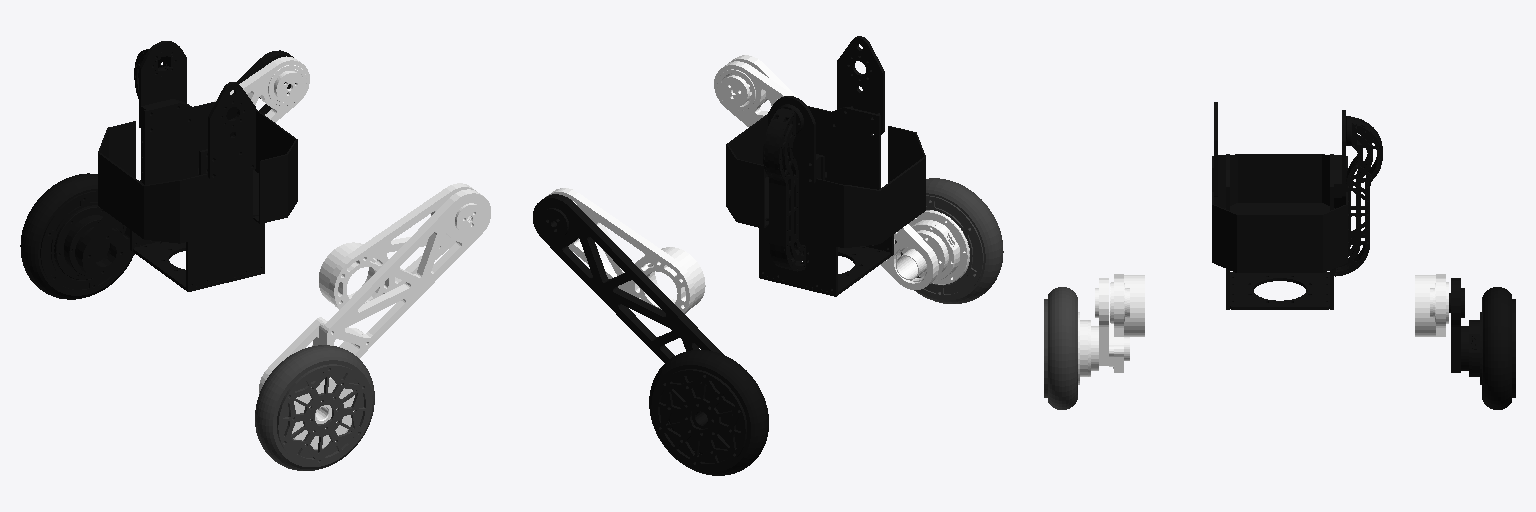
URDF robot description (Wheelleg_Robot):
<?xml version="1.0" encoding="utf-8"?>
<!-- This URDF was automatically created by SolidWorks to URDF Exporter! Originally created by [author] ([email redacted]) 
     Commit Version: 1.6.0-4-g7f85cfe  Build Version: 1.6.7995.38578
     For more information, please see http://wiki.ros.org/sw_urdf_exporter -->
<robot
  name="Wheelleg_Robot">
  <link
    name="base_link">
    <inertial>
      <origin
        xyz="-0.0393119892499659 0.000727219650863031 0.124790988924537"
        rpy="0 0 0" />
      <mass
        value="9.66650123485261" />
      <inertia
        ixx="0.021667255610811"
        ixy="-6.84802514806425E-06"
        ixz="-6.94682533420436E-05"
        iyy="0.0267198794185766"
        iyz="0.000293520093894272"
        izz="0.0278354606058483" />
    </inertial>
    <visual>
      <origin
        xyz="0 0 0"
        rpy="0 0 0" />
      <geometry>
        <mesh
          filename="package://Wheelleg_Robot/meshes/base_link.STL" />
      </geometry>
      <material
        name="">
        <color
          rgba="0.101960784313725 0.101960784313725 0.101960784313725 1" />
      </material>
    </visual>
    <collision>
      <origin
        xyz="0 0 0"
        rpy="0 0 0" />
      <geometry>
        <mesh
          filename="package://Wheelleg_Robot/meshes/base_link.STL" />
      </geometry>
    </collision>
  </link>
  <link
    name="R_LEG_link">
    <inertial>
      <origin
        xyz="0.0593195704988335 -0.00395996631715179 0.00337278963733142"
        rpy="0 0 0" />
      <mass
        value="0.187320941711117" />
      <inertia
        ixx="9.82888166929598E-05"
        ixy="-5.57235263548808E-19"
        ixz="-2.55423110367473E-05"
        iyy="0.000530493427214956"
        iyz="-1.27691905385213E-19"
        izz="0.000439056171779246" />
    </inertial>
    <visual>
      <origin
        xyz="0 0 0"
        rpy="0 0 0" />
      <geometry>
        <mesh
          filename="package://Wheelleg_Robot/meshes/R_LEG_link.STL" />
      </geometry>
      <material
        name="">
        <color
          rgba="1 1 1 1" />
      </material>
    </visual>
    <collision>
      <origin
        xyz="0 0 0"
        rpy="0 0 0" />
      <geometry>
        <mesh
          filename="package://Wheelleg_Robot/meshes/R_LEG_link.STL" />
      </geometry>
    </collision>
  </link>
  <joint
    name="R_LEG_joint"
    type="continuous">
    <origin
      xyz="0.0999999999999987 0.194999999999033 0.136"
      rpy="0 -0.399732455556951 0" />
    <parent
      link="base_link" />
    <child
      link="R_LEG_link" />
    <axis
      xyz="0 1 0" />
  </joint>
  <link
    name="R_leg_link2">
    <inertial>
      <origin
        xyz="-0.204331841708071 0.0143511599865713 6.42877477982119E-06"
        rpy="0 0 0" />
      <mass
        value="0.504177213691205" />
      <inertia
        ixx="0.000240640987451385"
        ixy="-2.80146963419998E-08"
        ixz="8.27816297118785E-07"
        iyy="0.0026476360704367"
        iyz="-1.73890969867268E-08"
        izz="0.00246221574199807" />
    </inertial>
    <visual>
      <origin
        xyz="0 0 0"
        rpy="0 0 0" />
      <geometry>
        <mesh
          filename="package://Wheelleg_Robot/meshes/R_leg_link2.STL" />
      </geometry>
      <material
        name="">
        <color
          rgba="0.101960784313725 0.101960784313725 0.101960784313725 1" />
      </material>
    </visual>
    <collision>
      <origin
        xyz="0 0 0"
        rpy="0 0 0" />
      <geometry>
        <mesh
          filename="package://Wheelleg_Robot/meshes/R_leg_link2.STL" />
      </geometry>
    </collision>
  </link>
  <joint
    name="R_leg_joint2"
    type="continuous">
    <origin
      xyz="0.139741726052029 0.0270000000000006 0.00849999999999393"
      rpy="0 -0.235284574006044 0" />
    <parent
      link="R_LEG_link" />
    <child
      link="R_leg_link2" />
    <axis
      xyz="0 -1 0" />
  </joint>
  <link
    name="R_wheel_link">
    <inertial>
      <origin
        xyz="6.10622663543836E-16 0.0438243848963922 -1.66533453693773E-16"
        rpy="0 0 0" />
      <mass
        value="0.209072881854544" />
      <inertia
        ixx="0.00037898367509143"
        ixy="4.44290791644015E-20"
        ixz="1.48186541596067E-20"
        iyy="0.000716092460503367"
        iyz="-3.20440037467828E-19"
        izz="0.00037898367509143" />
    </inertial>
    <visual>
      <origin
        xyz="0 0 0"
        rpy="0 0 0" />
      <geometry>
        <mesh
          filename="package://Wheelleg_Robot/meshes/R_wheel_link.STL" />
      </geometry>
      <material
        name="">
        <color
          rgba="0.101960784313725 0.101960784313725 0.101960784313725 1" />
      </material>
    </visual>
    <collision>
      <origin
        xyz="0 0 0"
        rpy="0 0 0" />
      <geometry>
        <mesh
          filename="package://Wheelleg_Robot/meshes/R_wheel_link.STL" />
      </geometry>
    </collision>
  </link>
  <joint
    name="R_wheel_joint"
    type="continuous">
    <origin
      xyz="-0.28 0.00249999999999903 0"
      rpy="0 0.635017029562995 0" />
    <parent
      link="R_leg_link2" />
    <child
      link="R_wheel_link" />
    <axis
      xyz="0 -1 0" />
  </joint>
  <link
    name="L_LEG_link">
    <inertial>
      <origin
        xyz="0.0611441149527177 0.00349837080216486 0.00394917222507897"
        rpy="0 0 0" />
      <mass
        value="0.191737363714934" />
      <inertia
        ixx="9.84652500345703E-05"
        ixy="1.13750999071705E-19"
        ixz="-1.6206205667753E-05"
        iyy="0.000533018574846117"
        iyz="7.9515093381934E-21"
        izz="0.000441512571108957" />
    </inertial>
    <visual>
      <origin
        xyz="0 0 0"
        rpy="0 0 0" />
      <geometry>
        <mesh
          filename="package://Wheelleg_Robot/meshes/L_LEG_link.STL" />
      </geometry>
      <material
        name="">
        <color
          rgba="1 1 1 1" />
      </material>
    </visual>
    <collision>
      <origin
        xyz="0 0 0"
        rpy="0 0 0" />
      <geometry>
        <mesh
          filename="package://Wheelleg_Robot/meshes/L_LEG_link.STL" />
      </geometry>
    </collision>
  </link>
  <joint
    name="L_LEG_joint"
    type="continuous">
    <origin
      xyz="0.0999999999999987 -0.194999999999043 0.136"
      rpy="0 -0.399732455556948 0" />
    <parent
      link="base_link" />
    <child
      link="L_LEG_link" />
    <axis
      xyz="0 1 0" />
  </joint>
  <link
    name="L_leg_link2">
    <inertial>
      <origin
        xyz="-0.209370158660843 -0.00996663280580701 -0.000521378628934047"
        rpy="0 0 0" />
      <mass
        value="0.539606453482741" />
      <inertia
        ixx="0.000255690648025865"
        ixy="8.30920950967472E-09"
        ixz="-1.24070594634651E-05"
        iyy="0.00152449946913708"
        iyz="3.19086342930764E-08"
        izz="0.00132325020465329" />
    </inertial>
    <visual>
      <origin
        xyz="0 0 0"
        rpy="0 0 0" />
      <geometry>
        <mesh
          filename="package://Wheelleg_Robot/meshes/L_leg_link2.STL" />
      </geometry>
      <material
        name="">
        <color
          rgba="1 1 1 1" />
      </material>
    </visual>
    <collision>
      <origin
        xyz="0 0 0"
        rpy="0 0 0" />
      <geometry>
        <mesh
          filename="package://Wheelleg_Robot/meshes/L_leg_link2.STL" />
      </geometry>
    </collision>
  </link>
  <joint
    name="L_leg_joint2"
    type="continuous">
    <origin
      xyz="0.139741726052028 -0.0269999999999999 0.00850000000000127"
      rpy="0 -0.235284574006046 0" />
    <parent
      link="L_LEG_link" />
    <child
      link="L_leg_link2" />
    <axis
      xyz="0 -1 0" />
  </joint>
  <link
    name="L_wheel_link">
    <inertial>
      <origin
        xyz="-6.10622663543836E-16 -0.0438243848963922 -1.94289029309402E-16"
        rpy="0 0 0" />
      <mass
        value="0.209072881854544" />
      <inertia
        ixx="0.000378983675091431"
        ixy="2.66981659142832E-20"
        ixz="1.4425900635957E-21"
        iyy="0.000716092460503369"
        iyz="3.66181644437592E-19"
        izz="0.000378983675091431" />
    </inertial>
    <visual>
      <origin
        xyz="0 0 0"
        rpy="0 0 0" />
      <geometry>
        <mesh
          filename="package://Wheelleg_Robot/meshes/L_wheel_link.STL" />
      </geometry>
      <material
        name="">
        <color
          rgba="0.298039215686275 0.298039215686275 0.298039215686275 1" />
      </material>
    </visual>
    <collision>
      <origin
        xyz="0 0 0"
        rpy="0 0 0" />
      <geometry>
        <mesh
          filename="package://Wheelleg_Robot/meshes/L_wheel_link.STL" />
      </geometry>
    </collision>
  </link>
  <joint
    name="L_wheel_joint"
    type="continuous">
    <origin
      xyz="-0.28 -0.00249999999999961 0"
      rpy="0 0.635017029562993 0" />
    <parent
      link="L_leg_link2" />
    <child
      link="L_wheel_link" />
    <axis
      xyz="0 1 0" />
  </joint>
  <link
    name="Gimbal_link">
    <inertial>
      <origin
        xyz="-0.000894001024621144 -0.0100347259792269 0.0945959392694565"
        rpy="0 0 0" />
      <mass
        value="0.798473291074186" />
      <inertia
        ixx="0.00200618600837109"
        ixy="6.2760124053965E-14"
        ixz="3.31141964772513E-05"
        iyy="0.00282847641239311"
        iyz="2.51023011999857E-05"
        izz="0.00273363884089259" />
    </inertial>
    <visual>
      <origin
        xyz="0 0 0"
        rpy="0 0 0" />
      <geometry>
        <mesh
          filename="package://Wheelleg_Robot/meshes/Gimbal_link.STL" />
      </geometry>
      <material
        name="">
        <color
          rgba="0.101960784313725 0.101960784313725 0.101960784313725 1" />
      </material>
    </visual>
    <collision>
      <origin
        xyz="0 0 0"
        rpy="0 0 0" />
      <geometry>
        <mesh
          filename="package://Wheelleg_Robot/meshes/Gimbal_link.STL" />
      </geometry>
    </collision>
  </link>
  <joint
    name="Gimbal_joint"
    type="continuous">
    <origin
      xyz="0 0 0.11135"
      rpy="0 0 3.1415" />
    <parent
      link="base_link" />
    <child
      link="Gimbal_link" />
    <axis
      xyz="0 0 1" />
  </joint>
  <link
    name="Pitch_link">
    <inertial>
      <origin
        xyz="0.040558739596251 0.00325186391669308 0.0130986122300888"
        rpy="0 0 0" />
      <mass
        value="2.1250497738678" />
      <inertia
        ixx="0.000984450160986608"
        ixy="-3.98470626871764E-06"
        ixz="2.54649279423034E-05"
        iyy="0.00181738648714478"
        iyz="1.98831102994705E-06"
        izz="0.00233878220472598" />
    </inertial>
    <visual>
      <origin
        xyz="0 0 0"
        rpy="0 0 0" />
      <geometry>
        <mesh
          filename="package://Wheelleg_Robot/meshes/Pitch_link.STL" />
      </geometry>
      <material
        name="">
        <color
          rgba="0.101960784313725 0.101960784313725 0.101960784313725 1" />
      </material>
    </visual>
    <collision>
      <origin
        xyz="0 0 0"
        rpy="0 0 0" />
      <geometry>
        <mesh
          filename="package://Wheelleg_Robot/meshes/Pitch_link.STL" />
      </geometry>
    </collision>
  </link>
  <joint
    name="Pitch_joint"
    type="continuous">
    <origin
      xyz="0 0.000499999999995171 0.212"
      rpy="0 0 0" />
    <parent
      link="Gimbal_link" />
    <child
      link="Pitch_link" />
    <axis
      xyz="0 1 0" />
  </joint>
</robot>

--- Facts derived from the render (not from the file) ---
The picture shows the robot from 3 angles, left to right: view 1: azimuth 30°, elevation 25°; view 2: azimuth 150°, elevation 25°; view 3: azimuth 270°, elevation 25°; orthographic projection.
Robot: Wheelleg_Robot — 9 links, 8 joints (8 continuous); root link base_link; default pose: every joint at zero.
Visible links, largest first — view 1: Gimbal_link, L_leg_link2, L_wheel_link, R_wheel_link, R_leg_link2, L_LEG_link, R_LEG_link; view 2: Gimbal_link, R_wheel_link, R_leg_link2, L_leg_link2, L_wheel_link, R_LEG_link, L_LEG_link; view 3: Gimbal_link, R_wheel_link, L_wheel_link, L_leg_link2, R_leg_link2, L_LEG_link, R_LEG_link.
Link boxes in pixels (box(x1,y1,x2,y2)): Gimbal_link: box(98, 41, 297, 291); L_leg_link2: box(259, 189, 490, 449); L_wheel_link: box(255, 345, 374, 470); R_wheel_link: box(20, 173, 132, 299); R_leg_link2: box(54, 50, 295, 279); L_LEG_link: box(319, 183, 475, 309); R_LEG_link: box(214, 56, 309, 122); Gimbal_link: box(726, 36, 925, 296); R_wheel_link: box(649, 350, 768, 475); R_leg_link2: box(533, 194, 732, 453); L_leg_link2: box(729, 55, 969, 289); L_wheel_link: box(895, 178, 1003, 303); R_LEG_link: box(546, 188, 705, 313); L_LEG_link: box(714, 61, 808, 126); Gimbal_link: box(1212, 102, 1382, 309); R_wheel_link: box(1482, 287, 1515, 409); L_wheel_link: box(1044, 287, 1077, 409); L_leg_link2: box(1078, 278, 1129, 384); R_leg_link2: box(1449, 278, 1481, 384); L_LEG_link: box(1110, 274, 1144, 336); R_LEG_link: box(1415, 274, 1448, 336).
Size in the robot's own frame: 0.3554 by 0.5714 by 0.404 metres.
Meshes: 9 distinct files referenced, 7 mesh visuals loaded (7 binary STL); not drawn: 2 (reference not matched to a file when rendering).